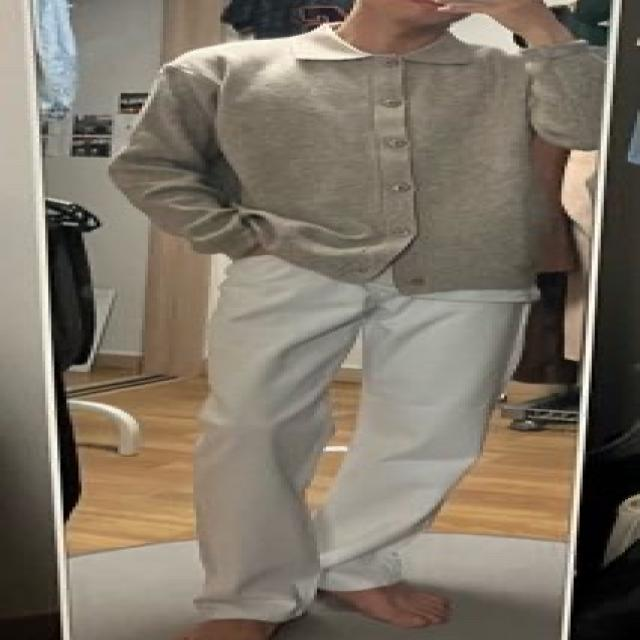cardigan: (103, 26, 600, 293)
denimpants: (183, 245, 522, 624)
